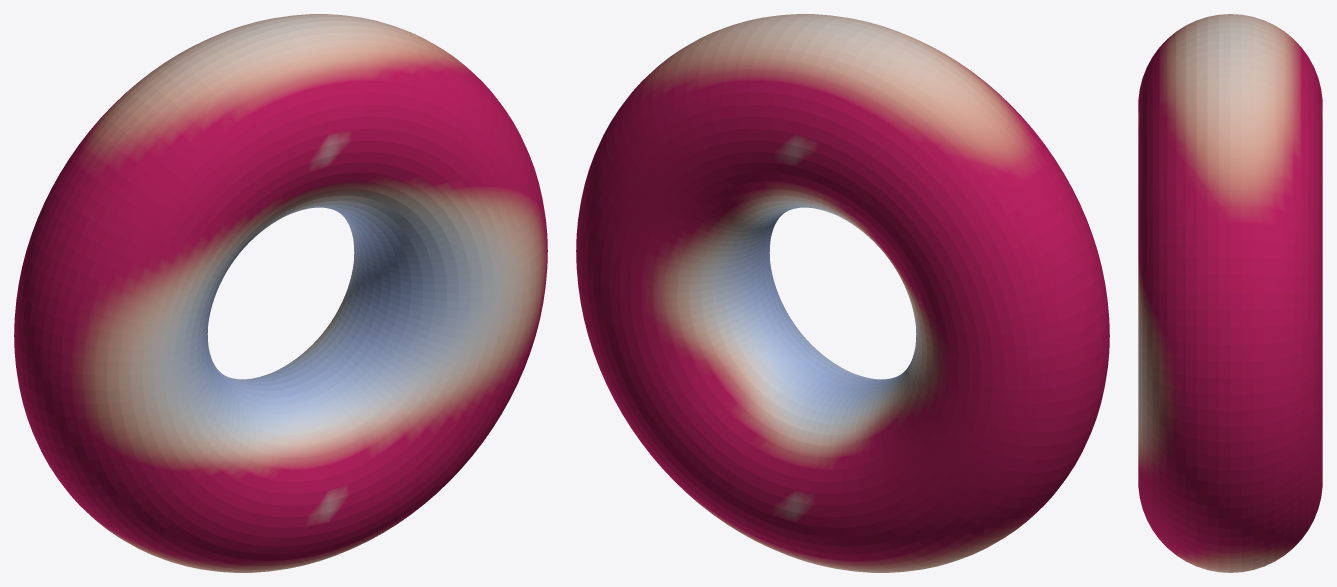
3 views of the same model, side by side, from view 1: azimuth 30°, elevation 25°; view 2: azimuth 150°, elevation 25°; view 3: azimuth 270°, elevation 25° (orthographic). The views are drawn at different scales.
Visible parts, largest first — view 1: world; view 2: world; view 3: world.
Part boxes in pixels (x1=…): world: x1=14, y1=14, x2=547, y2=572; world: x1=576, y1=14, x2=1109, y2=572; world: x1=1138, y1=14, x2=1322, y2=572.
Bounding box in the file's own units: 24.89 × 24.89 × 8.21.
